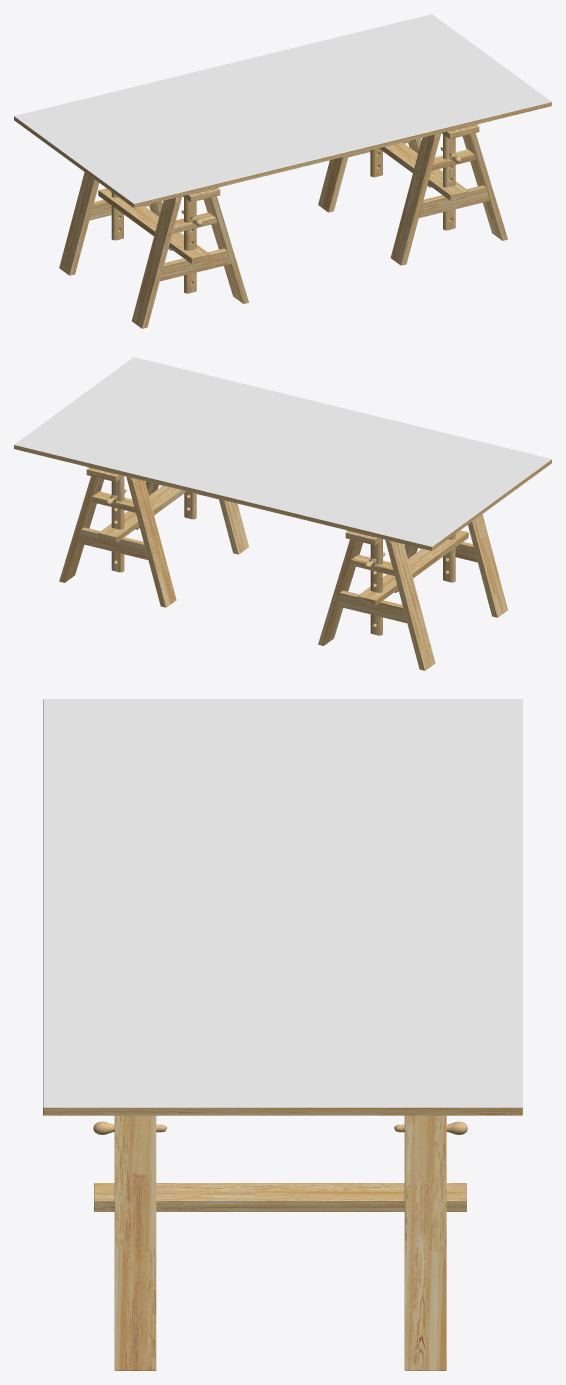
The model's file is zanotta_leonardo_fbx_upZ.fbx.
3 renders of one model, top to bottom at view 1: azimuth 30°, elevation 25°; view 2: azimuth 150°, elevation 25°; view 3: azimuth 270°, elevation 25°, orthographic. The views are drawn at different scales.
Visible parts, largest first — view 1: zanotta_leonardo; view 2: zanotta_leonardo; view 3: zanotta_leonardo.
Boxes of the visible parts, left/top/right/bottom form: zanotta_leonardo: left=14, top=14, right=551, bottom=328; zanotta_leonardo: left=14, top=357, right=551, bottom=670; zanotta_leonardo: left=43, top=699, right=522, bottom=1370.
Bounding box in the file's own units: 199 × 99.04 × 65.86.
